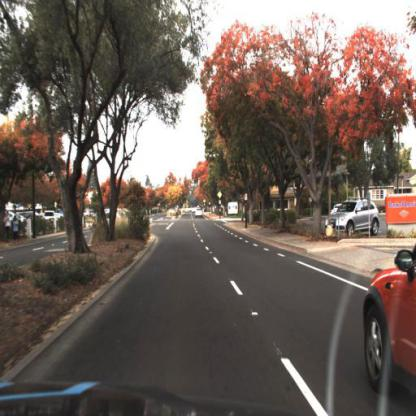car: (360, 217, 416, 404), (325, 195, 380, 239), (332, 200, 347, 218), (195, 205, 205, 220)
pedestrian: (4, 211, 12, 244), (13, 215, 21, 244)
